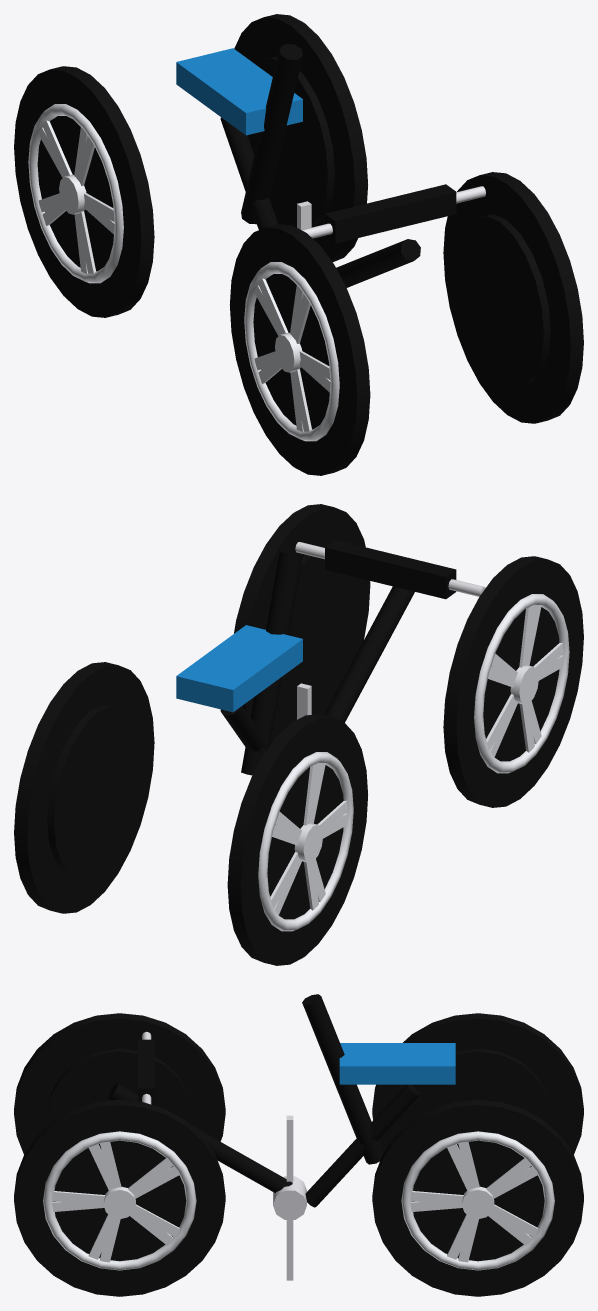
The model's file is pedal.glb.
3 renders of one model, top to bottom at view 1: azimuth 30°, elevation 25°; view 2: azimuth 150°, elevation 25°; view 3: azimuth 270°, elevation 25°, orthographic. The views are drawn at different scales.
Parts seen in each view (by area): view 1: Tire, Tire4, Tire2, Body, Tire3, Rim2, Rim4; view 2: Tire3, Body, Tire2, Tire4, Tire, Rim2, Rim4; view 3: Tire3, Tire, Tire2, Body, Tire4, Rim3, Rim.
Part boxes in pixels (x1=…): Tire: x1=443, y1=172, x2=583, y2=423; Tire4: x1=14, y1=66, x2=154, y2=317; Tire2: x1=230, y1=224, x2=370, y2=475; Body: x1=176, y1=44, x2=485, y2=287; Tire3: x1=234, y1=14, x2=367, y2=261; Rim2: x1=244, y1=262, x2=339, y2=441; Rim4: x1=28, y1=104, x2=123, y2=283; Tire3: x1=14, y1=662, x2=154, y2=913; Body: x1=176, y1=540, x2=485, y2=775; Tire2: x1=443, y1=556, x2=583, y2=807; Tire4: x1=227, y1=714, x2=367, y2=965; Tire: x1=234, y1=504, x2=370, y2=745; Rim2: x1=474, y1=594, x2=569, y2=773; Rim4: x1=258, y1=752, x2=353, y2=931; Tire3: x1=372, y1=1099, x2=583, y2=1296; Tire: x1=14, y1=1099, x2=225, y2=1296; Tire2: x1=14, y1=1013, x2=225, y2=1154; Body: x1=108, y1=994, x2=455, y2=1280; Tire4: x1=372, y1=1013, x2=583, y2=1154; Rim3: x1=401, y1=1131, x2=554, y2=1270; Rim: x1=43, y1=1131, x2=196, y2=1270.
Size of the model in its own units: 0.6869 by 0.9127 by 1.67.
